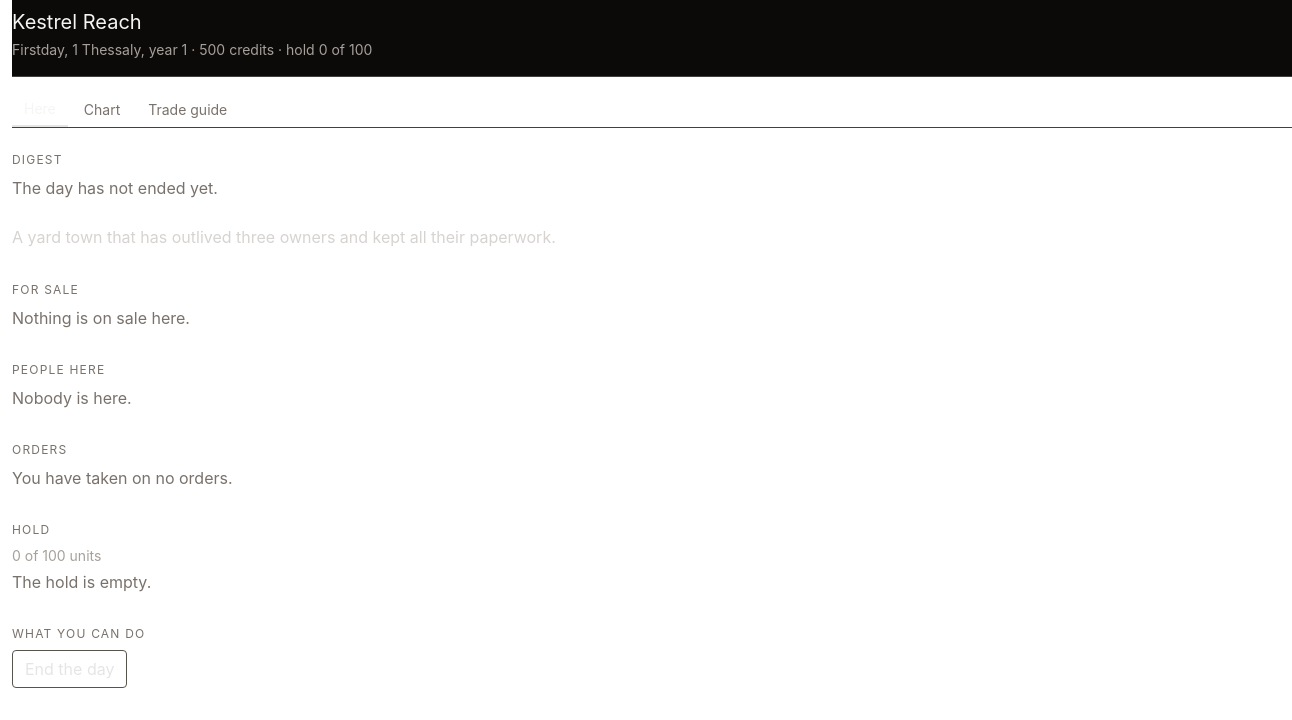
Test case: the chart on the page › shows a lane beyond the ship’s range as unflyable rather than hiding it
Step 1. Click the tab "Chart" → click(102, 110), box [72,93,132,127]
(page scrolled)
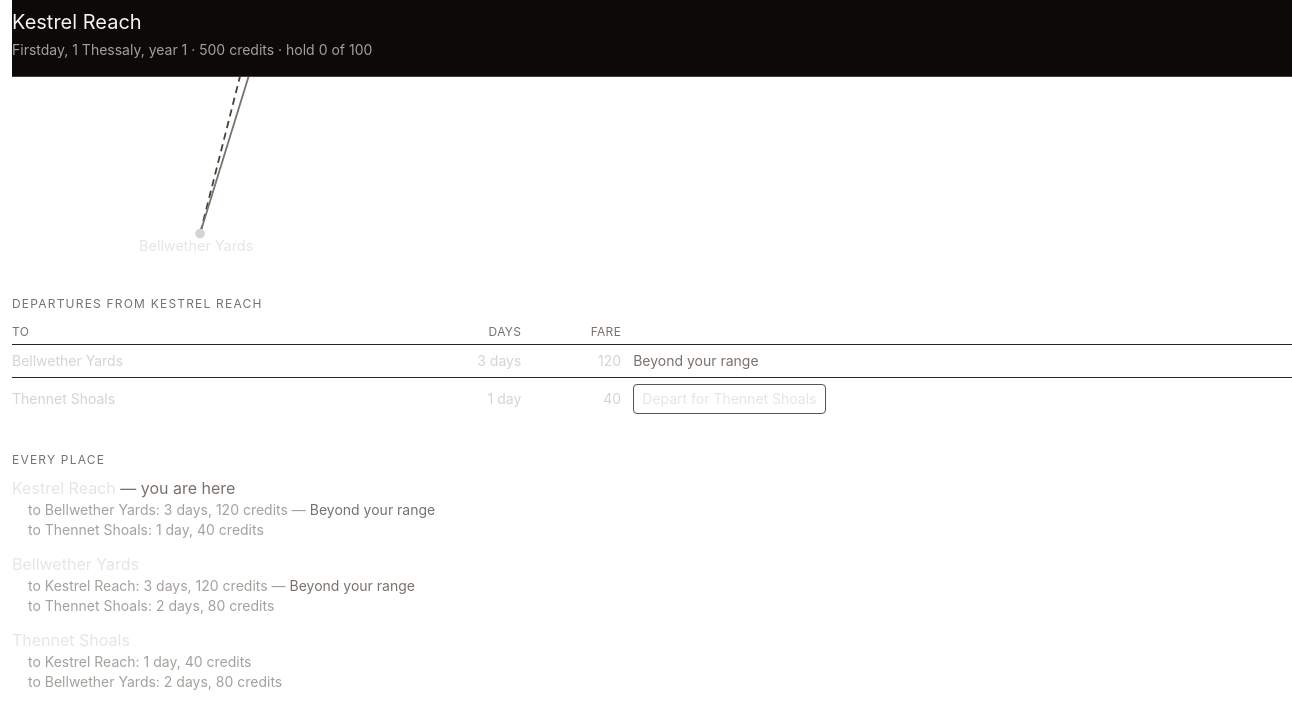
expect the text "Beyond your range" below "Fare" is shown: met, box [633,352,759,369]
